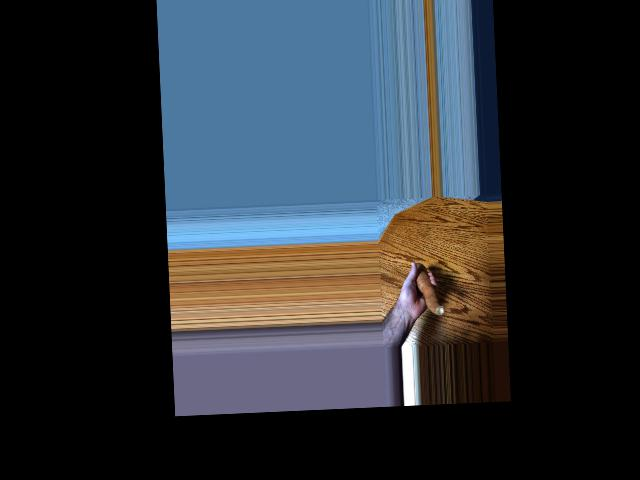sweet_potato: (412, 263, 443, 318)
